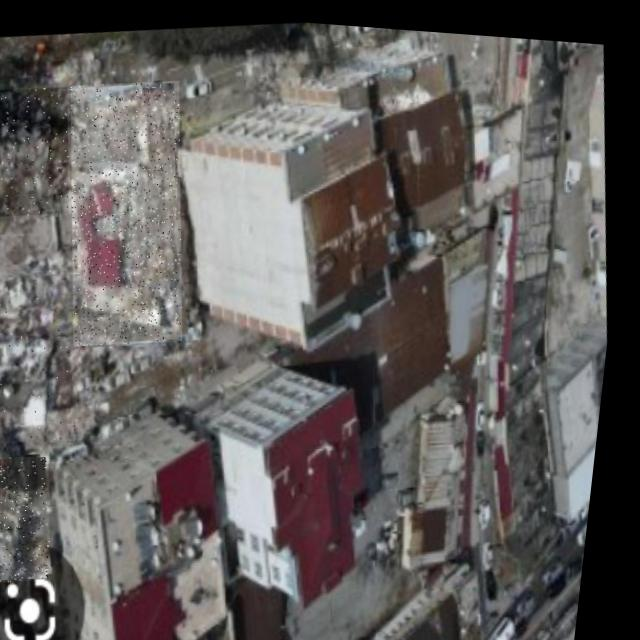Rubble: (48, 71, 211, 350), (0, 260, 106, 452), (0, 81, 83, 224), (0, 449, 73, 588)
